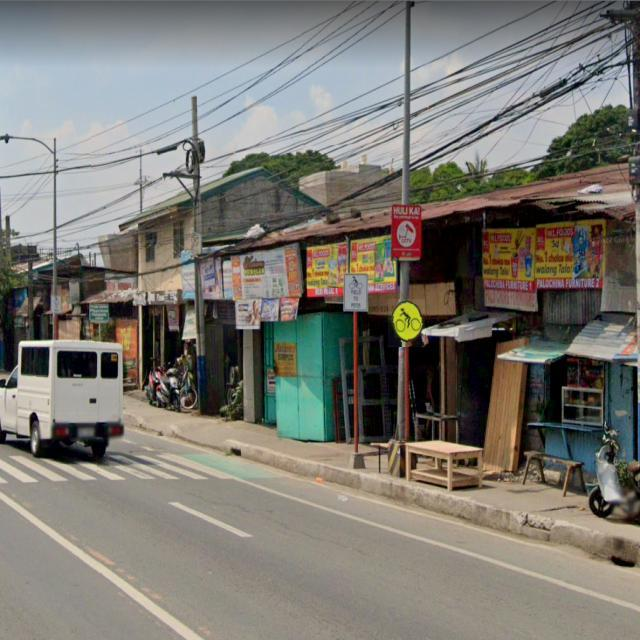bike lane: (388, 299, 425, 347)
